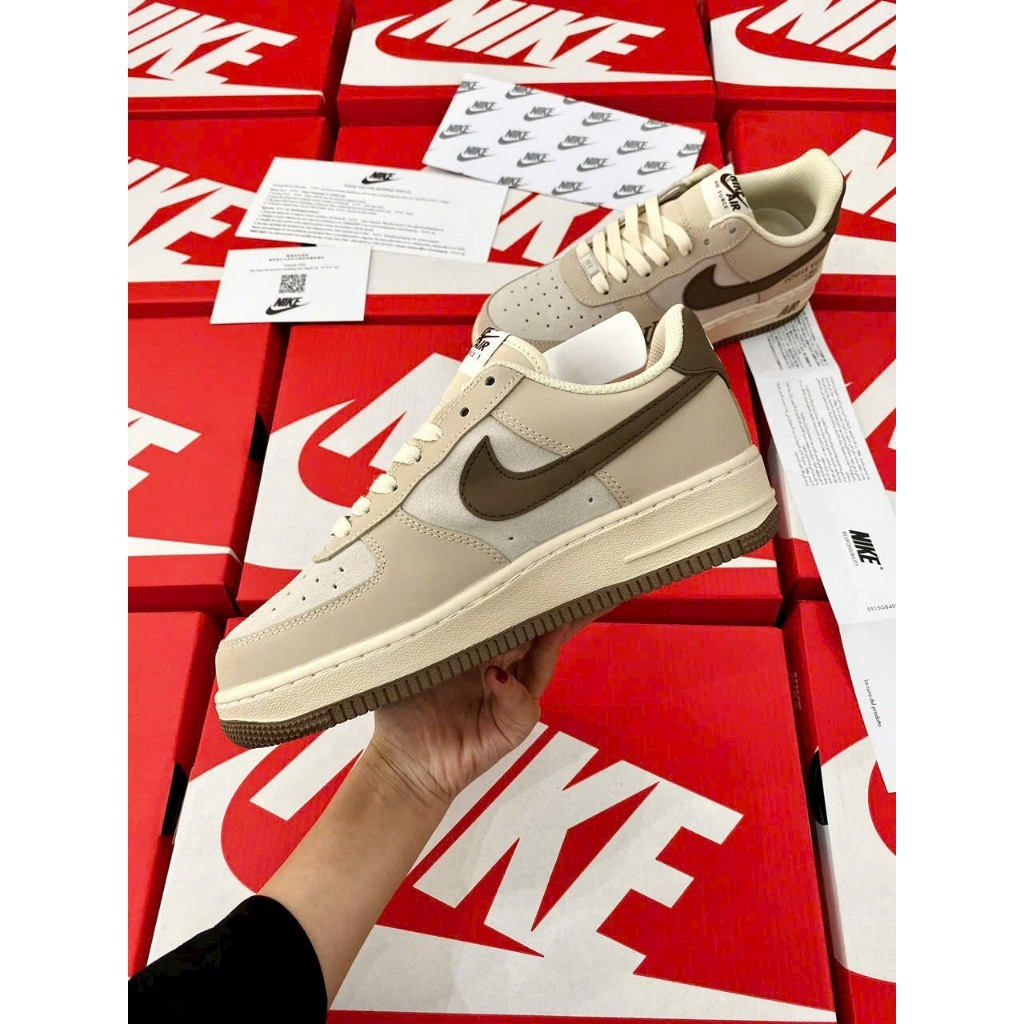sneakers: (215, 301, 784, 747), (468, 149, 848, 363)
